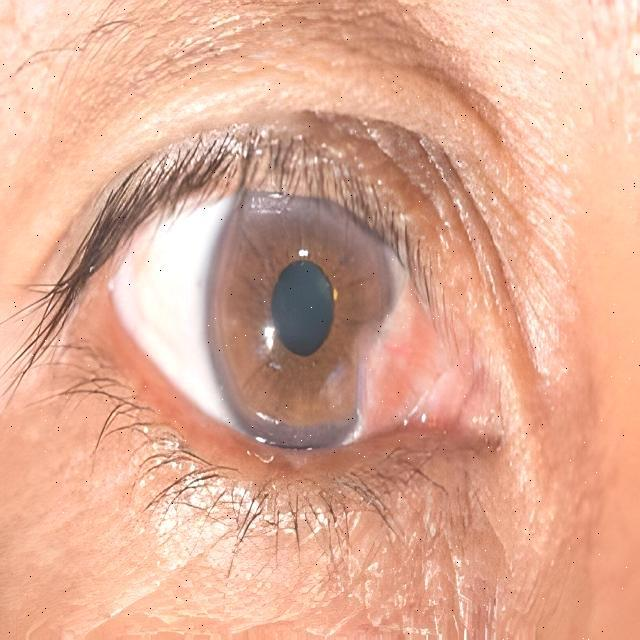Pterygium: (358, 294, 472, 438)
